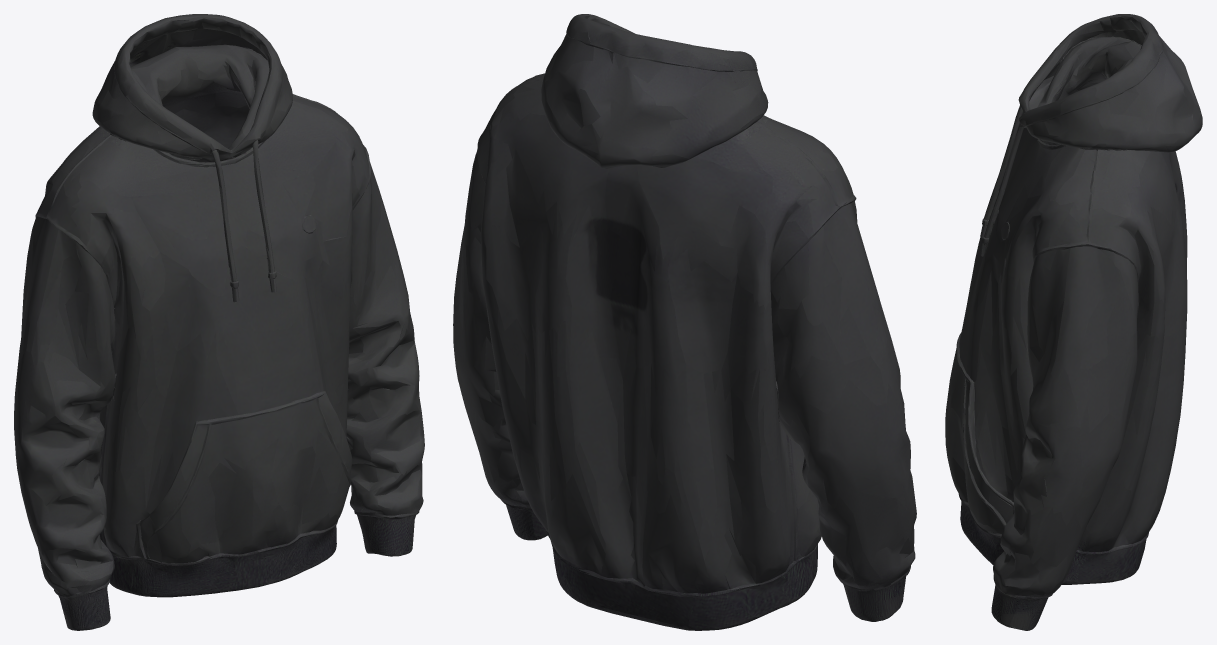
Rendered from hf_20260928_080034_77ebd1b8-d8da-4163-b276-598c59f9e4dc.glb.
3 views of the same model, side by side, from view 1: azimuth 30°, elevation 25°; view 2: azimuth 150°, elevation 25°; view 3: azimuth 270°, elevation 25° (orthographic). The views are drawn at different scales.
Bounding box in the file's own units: 1.49 × 1.9 × 0.8511.
1 material, 1 textured.
